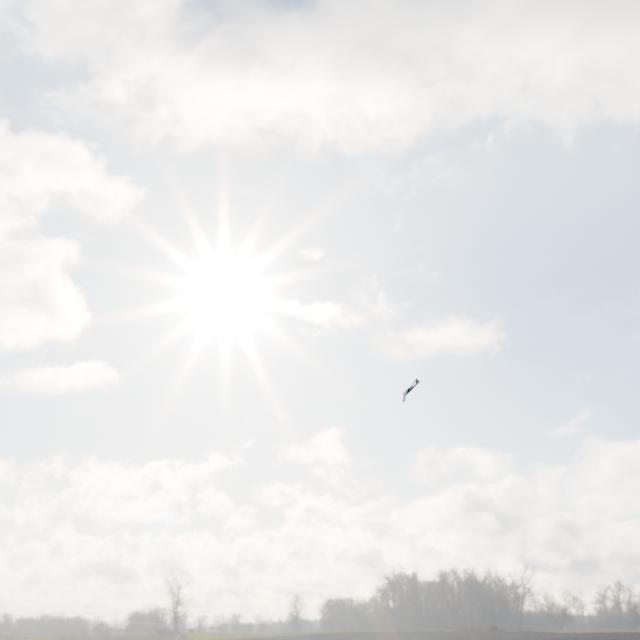Airaplan: (402, 378, 421, 402)
